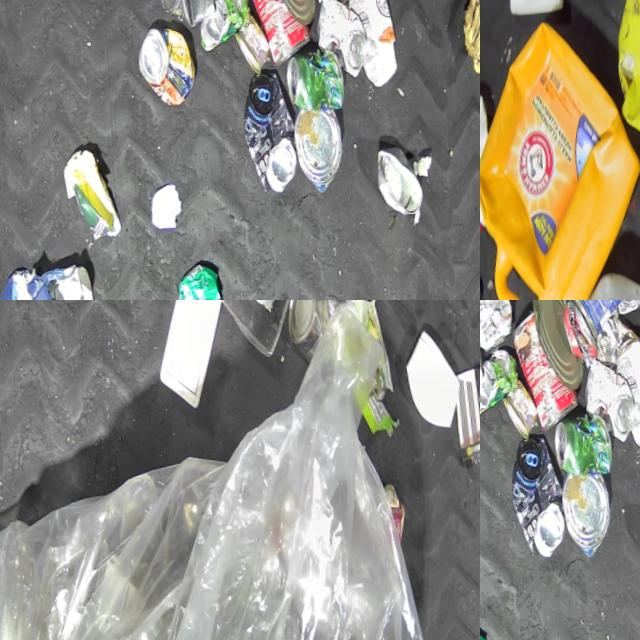can: (506, 300, 589, 430), (238, 62, 311, 191), (506, 427, 579, 556), (136, 17, 205, 107), (292, 98, 355, 190), (560, 463, 623, 555), (579, 346, 640, 440), (526, 300, 592, 386), (238, 0, 321, 65), (284, 37, 350, 109), (552, 402, 618, 474), (311, 0, 374, 75), (376, 135, 433, 216), (283, 300, 357, 358), (480, 339, 525, 415), (553, 300, 640, 337), (195, 0, 257, 50), (232, 5, 278, 70), (500, 370, 546, 435), (177, 254, 237, 300), (148, 0, 225, 27), (480, 300, 521, 350)
milk_jug: (145, 300, 247, 409)
non_white_jug: (480, 0, 640, 300), (599, 0, 640, 161)
